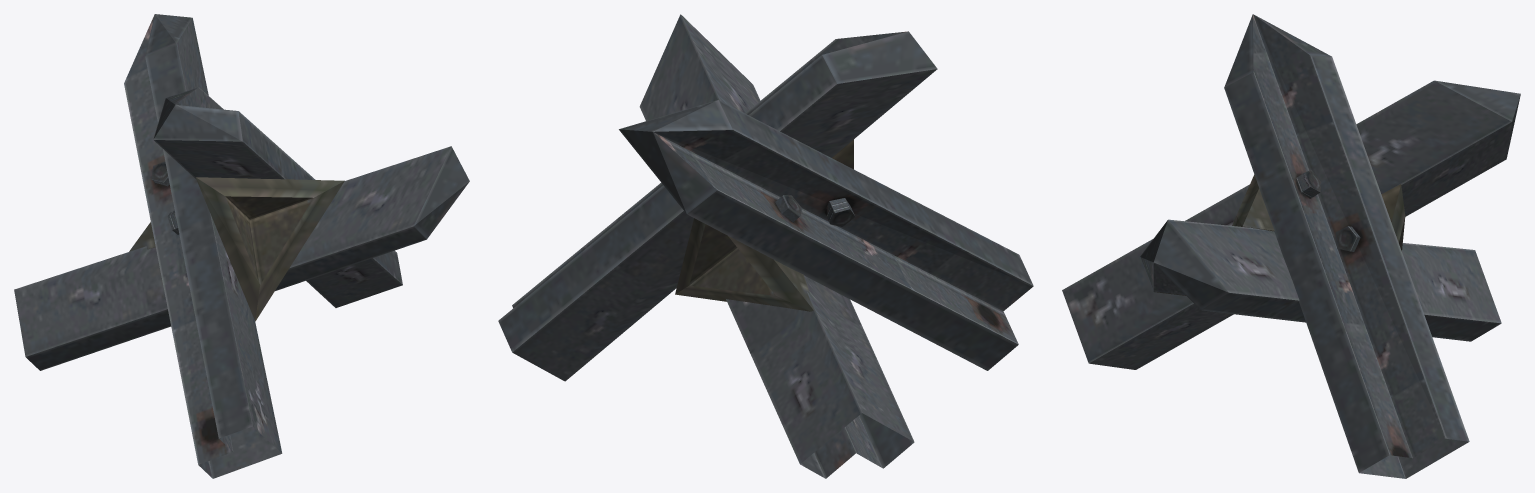
Rendered from C1SMTKCRSB_H.obj.
3 views of the same model, side by side, from view 1: azimuth 30°, elevation 25°; view 2: azimuth 150°, elevation 25°; view 3: azimuth 270°, elevation 25° (orthographic). The views are drawn at different scales.
Visible parts, largest first — view 1: Node 0; view 2: Node 0; view 3: Node 0.
Part boxes in pixels (x1,y1,x2,y2): Node 0: [14, 14, 469, 478]; Node 0: [498, 14, 1033, 478]; Node 0: [1062, 14, 1520, 478].
Bounding box in the file's own units: 6.71 × 5.88 × 6.71.
1 material, 1 textured.
